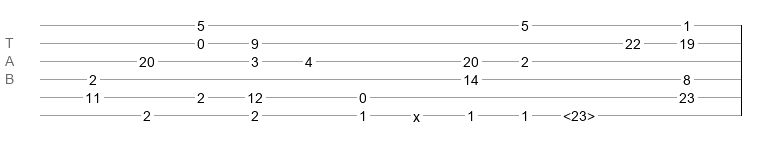0: (197, 36, 205, 46), (359, 90, 367, 100)
1: (359, 108, 367, 118), (467, 108, 475, 118), (521, 108, 529, 118), (683, 18, 691, 28)
11: (85, 90, 101, 100)
12: (247, 90, 263, 100)
14: (463, 72, 479, 82)
19: (679, 36, 695, 46)
2: (89, 72, 97, 82), (143, 108, 151, 118), (197, 90, 205, 100), (251, 108, 259, 118), (521, 54, 529, 64)
20: (139, 54, 155, 64), (463, 54, 479, 64)
22: (625, 36, 641, 46)
23: (679, 90, 695, 100)
3: (251, 54, 259, 64)
4: (305, 54, 313, 64)
5: (197, 18, 205, 28), (521, 18, 529, 28)
8: (683, 72, 691, 82)
9: (251, 36, 259, 46)
harmonic: (563, 108, 595, 118)
x: (413, 109, 420, 117)
